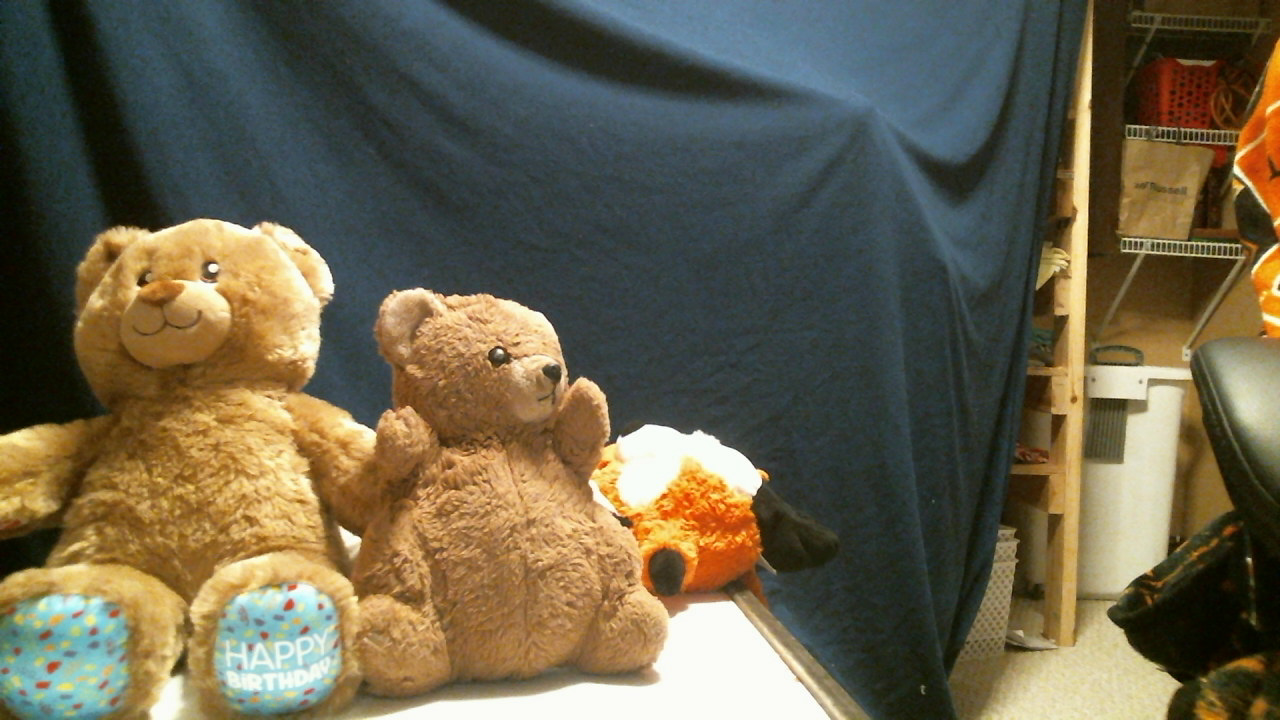Little_Mister_Bear: (485, 342, 572, 427)
